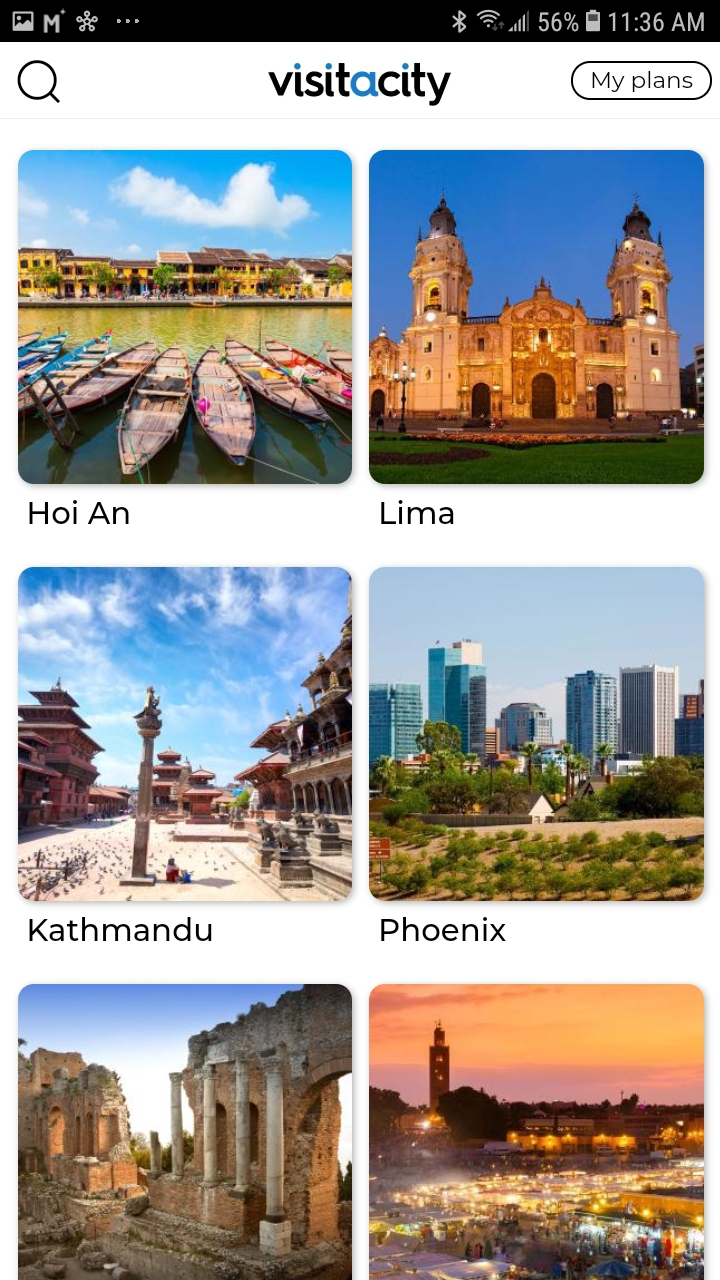Icon: (18, 60, 61, 105)
Image: (18, 566, 353, 902), (369, 567, 704, 903), (370, 150, 705, 485), (19, 150, 353, 485), (18, 984, 353, 1280), (369, 984, 704, 1280), (268, 62, 452, 107)
Text: (30, 916, 213, 942), (380, 916, 506, 942), (29, 500, 130, 525), (380, 499, 454, 525)
TextButton: (571, 62, 713, 102)
UpperTaskBar: (1, 1, 720, 43)
